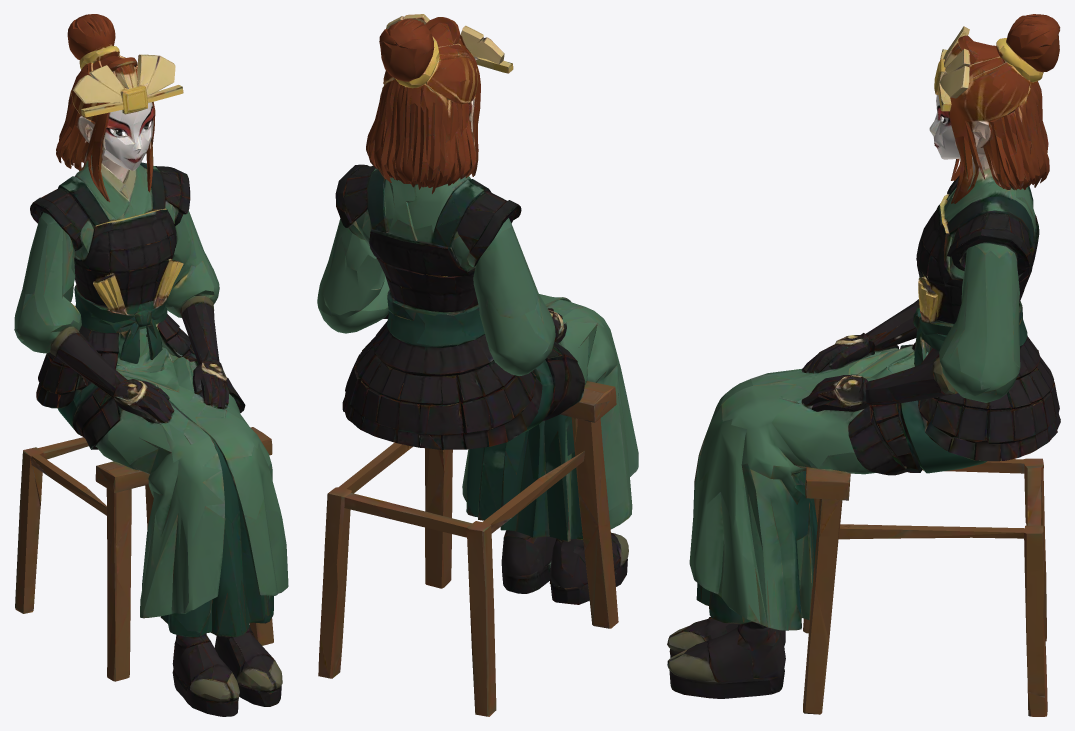
Rendered from kyoshi2.glb.
The picture shows the model from 3 angles, left to right: view 1: azimuth 30°, elevation 25°; view 2: azimuth 150°, elevation 25°; view 3: azimuth 270°, elevation 25°; orthographic projection. The views are drawn at different scales.
Parts seen in each view (by area): view 1: Mesh_0; view 2: Mesh_0; view 3: Mesh_0.
Part boxes in pixels (x1,y1,x2,y2): Mesh_0: (14, 14, 288, 716); Mesh_0: (317, 14, 638, 716); Mesh_0: (667, 14, 1060, 716).
Bounding box in the file's own units: 0.6754 × 1.9 × 1.03.
Materials: 1 (1 with a texture image).
